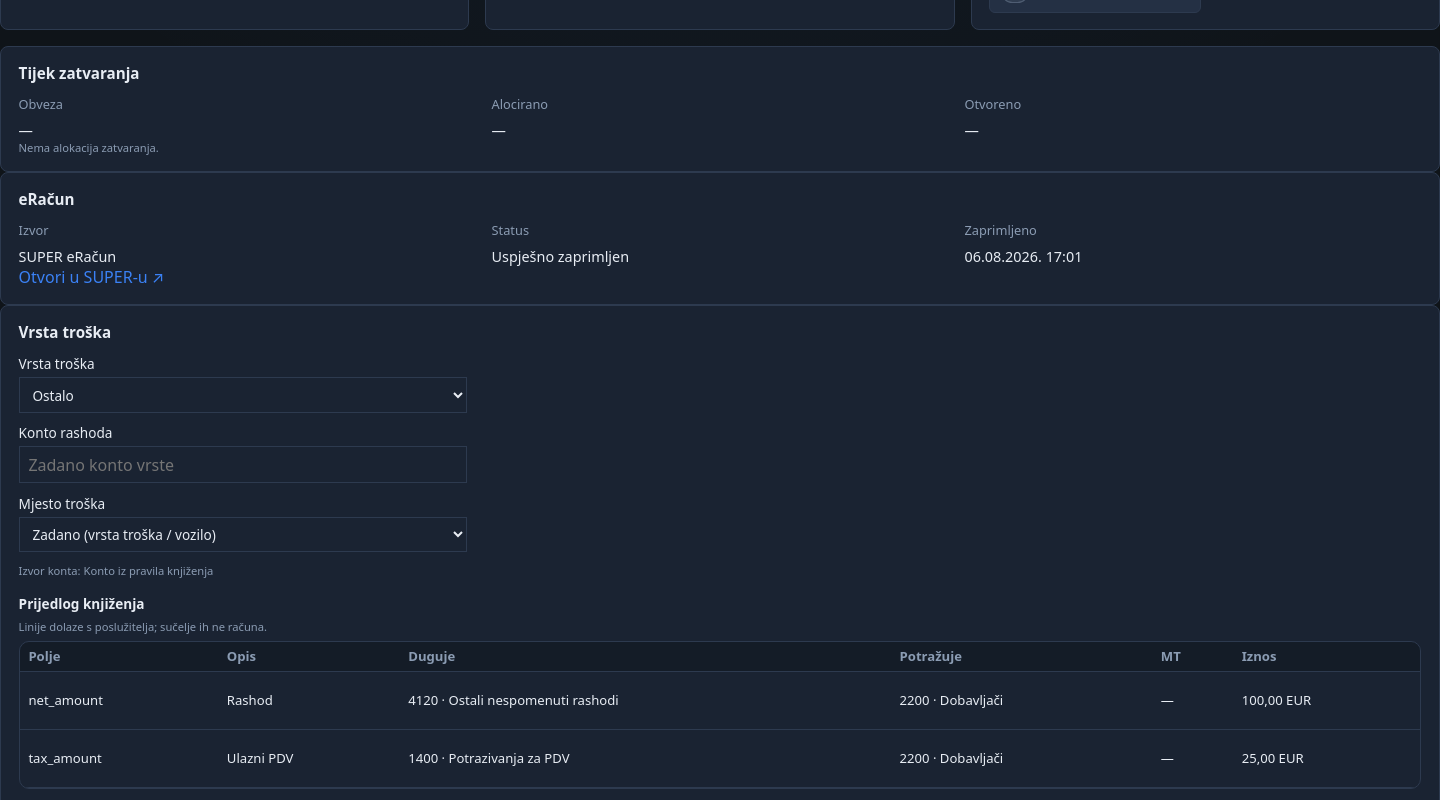
Test: IncomingExpenseDetail › shows a read-only lock message on 409 not_draft instead of a generic error
(page scrolled)
Select "Telekomunikacije" in the dropdown labelled "Vrsta troška" at (243, 395), box top-left (19, 377), bottom-right (467, 413)
(page scrolled)
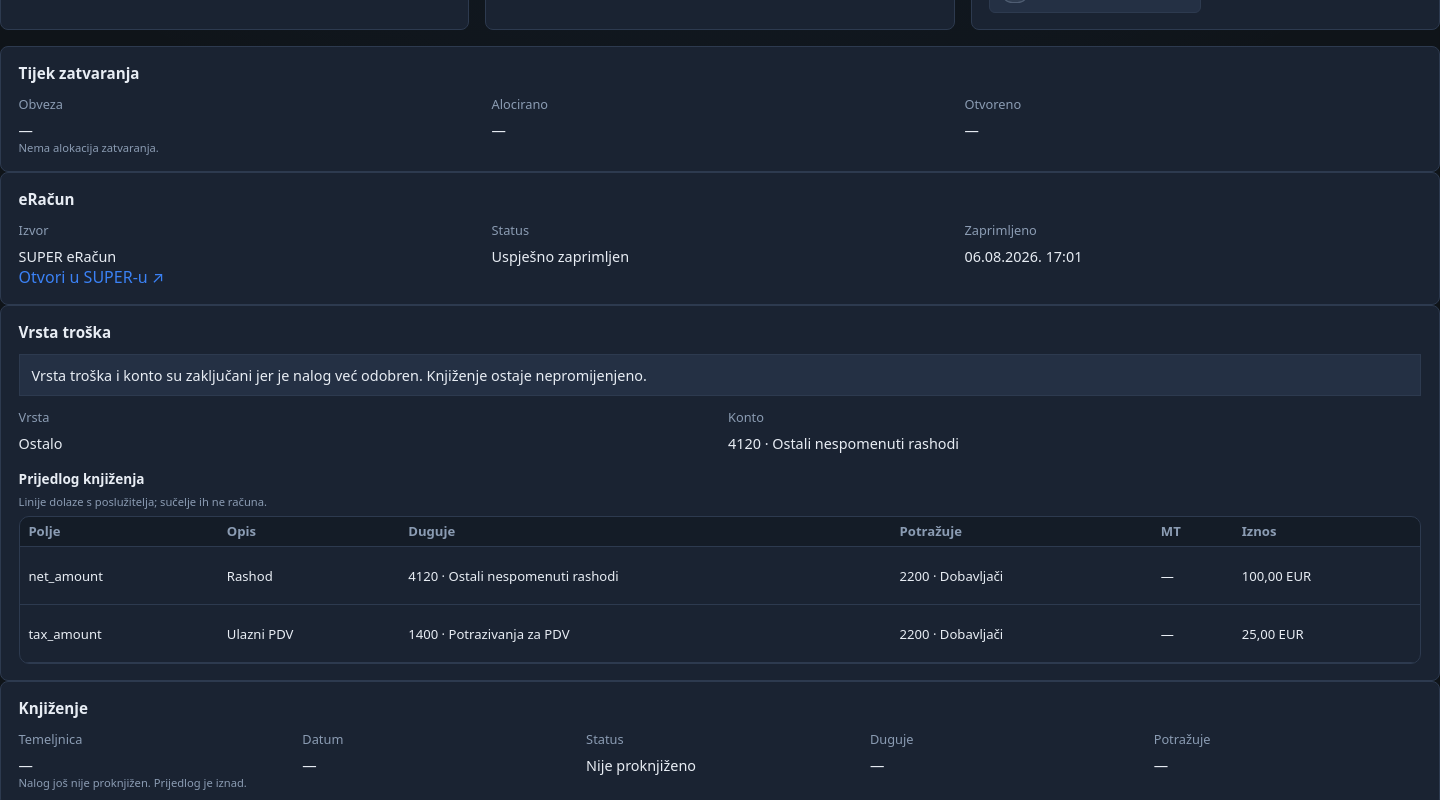
expect the text "zaključani jer je nalog već odobren" is shown: met, box top-left (32, 366), bottom-right (647, 385)
